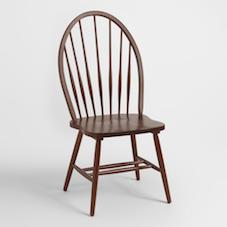chair: (34, 6, 182, 212)
